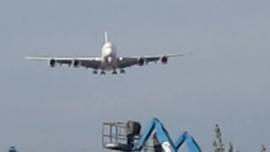aircraft: (25, 31, 192, 76)
